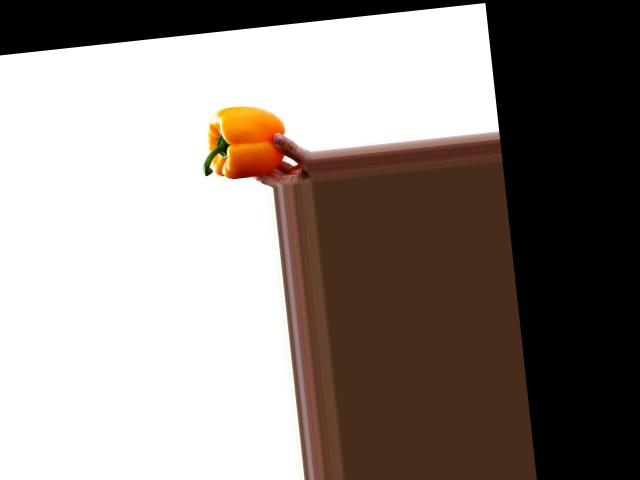bell_pepper: (193, 100, 291, 182)
